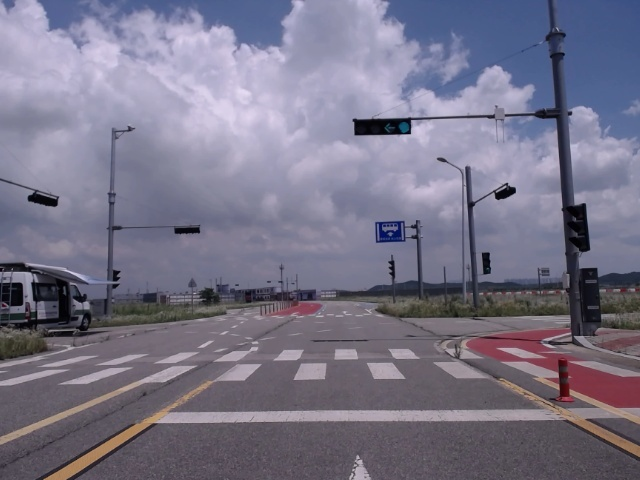all_green_4: (351, 119, 412, 132)
